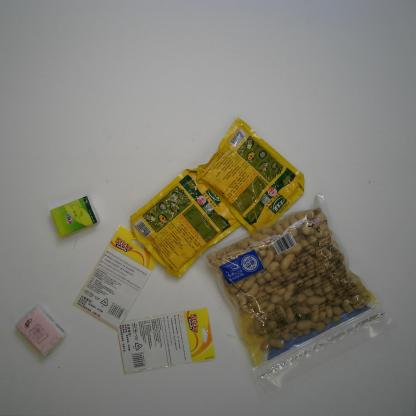Dried Food: (187, 193, 399, 393)
Seasoner: (127, 162, 257, 282), (196, 116, 306, 239)
Stationery: (70, 223, 163, 332), (114, 305, 217, 377)
Tissue: (13, 306, 68, 360), (48, 192, 98, 238)
